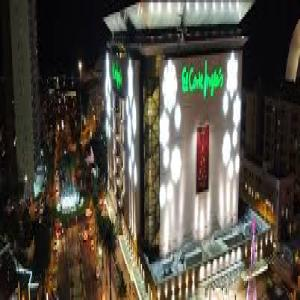corte_ingles: (179, 61, 224, 95), (110, 50, 125, 92)
